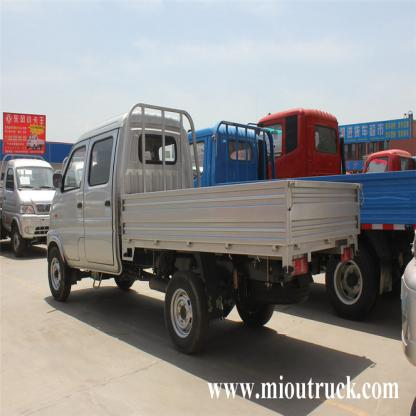normal-truck: (50, 123, 362, 310)
